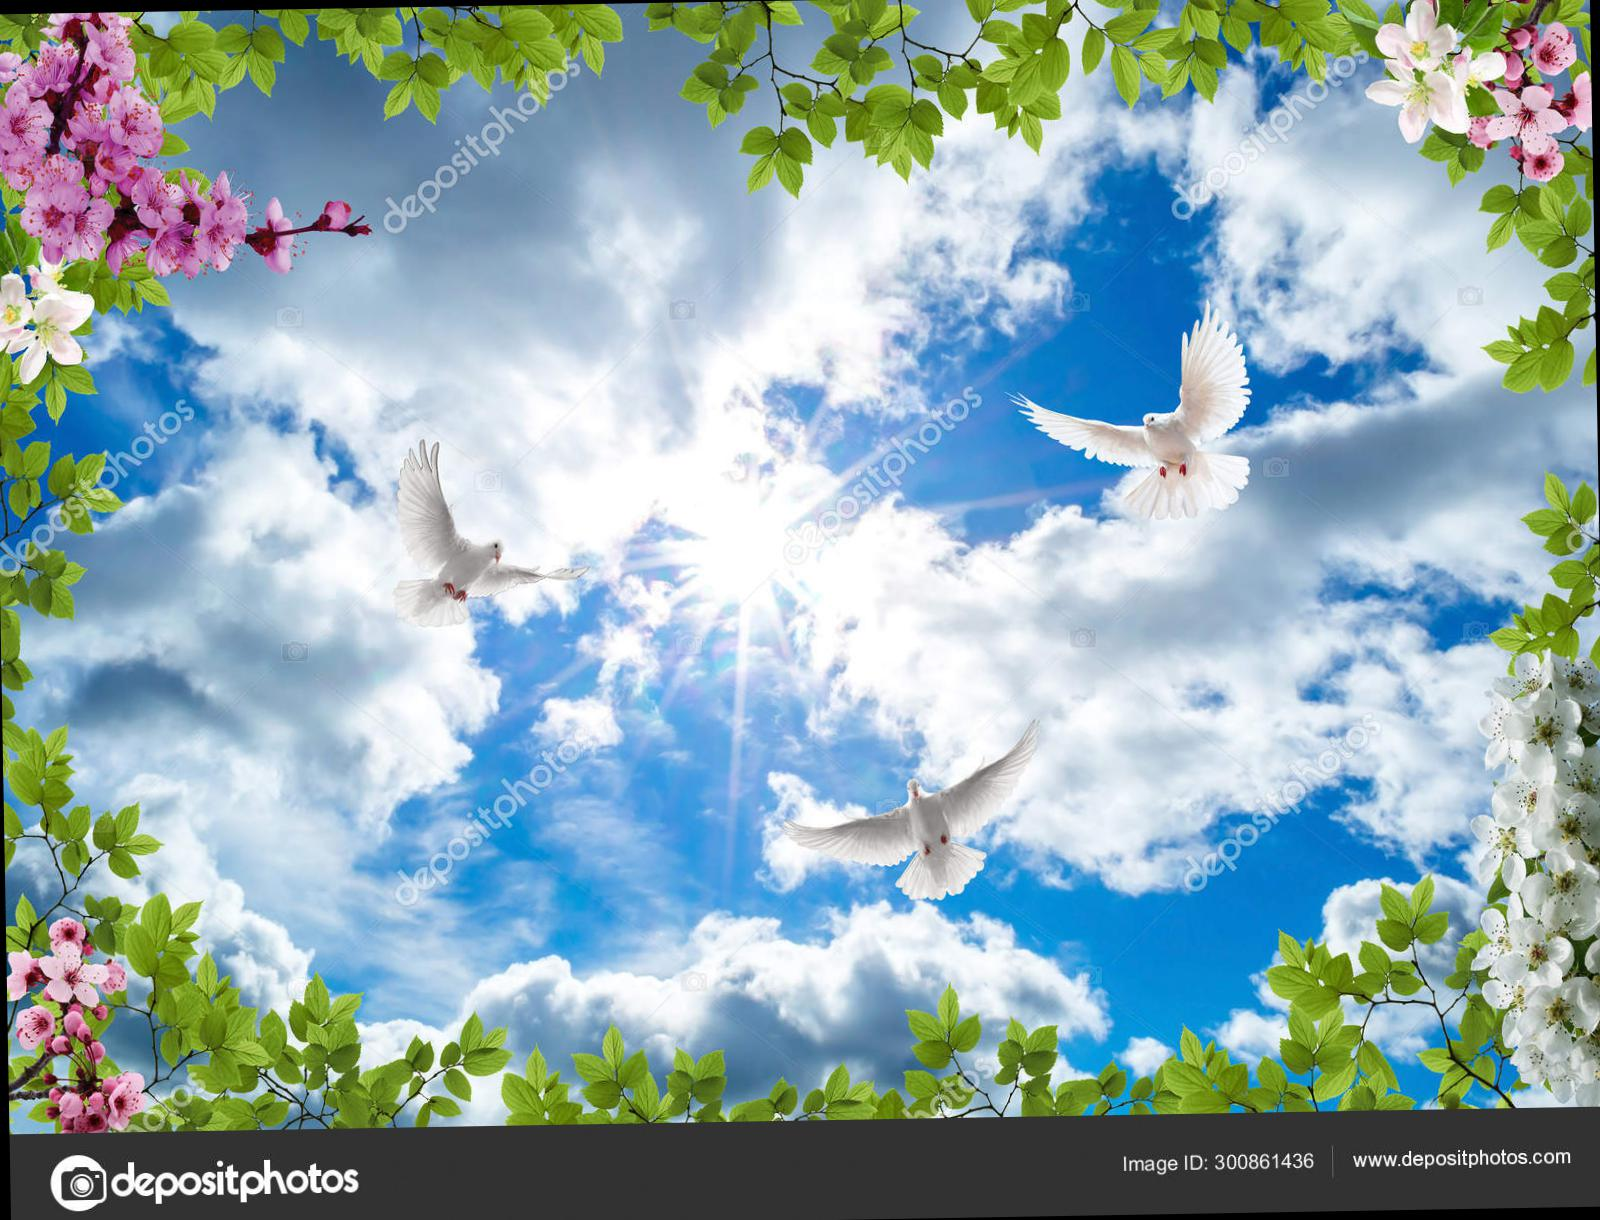bird: (994, 273, 1264, 560), (760, 704, 1073, 936), (348, 420, 616, 648)
